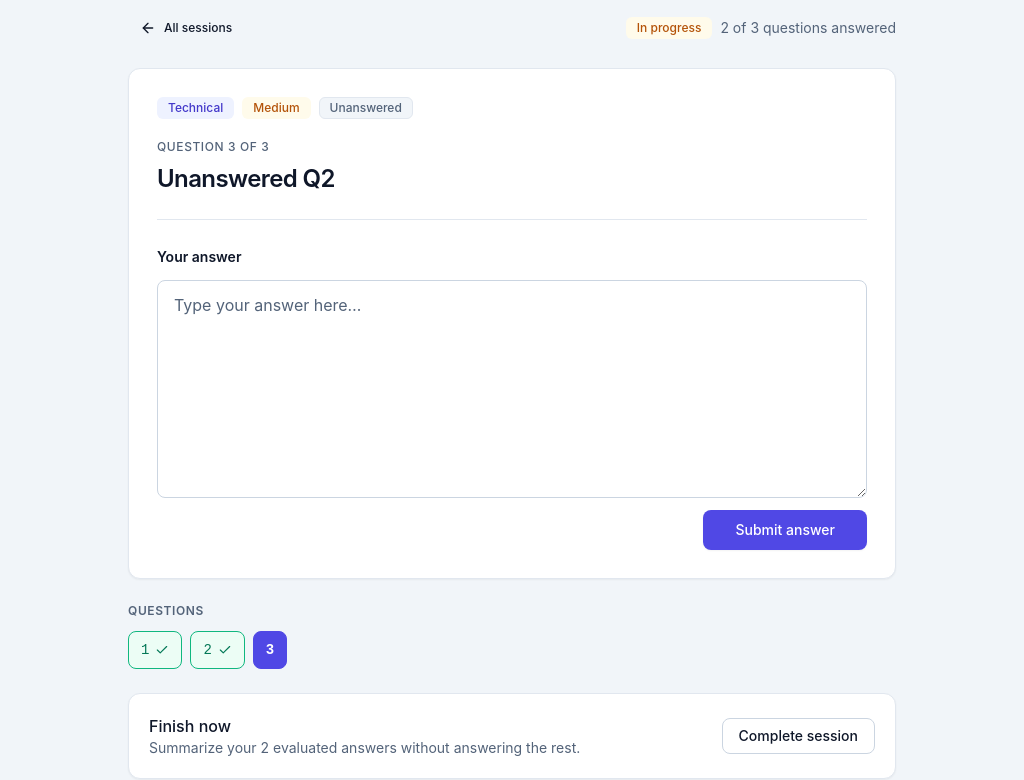
Test: PracticeSessionView Component › Test 5 — Progress/score distinction: progress is clearly labeled and not conflated with evaluation score
Expected: the text "Question 3 of 3" is shown, x1=157 y1=139 x2=269 y2=154
Expected: the heading "Unanswered Q2" is shown, x1=157 y1=164 x2=335 y2=193
# User navigates back to Question 1 to inspect previous answer
Click the button named "Question 1, score 75".
click(155, 650)  # box x1=128 y1=631 x2=182 y2=669
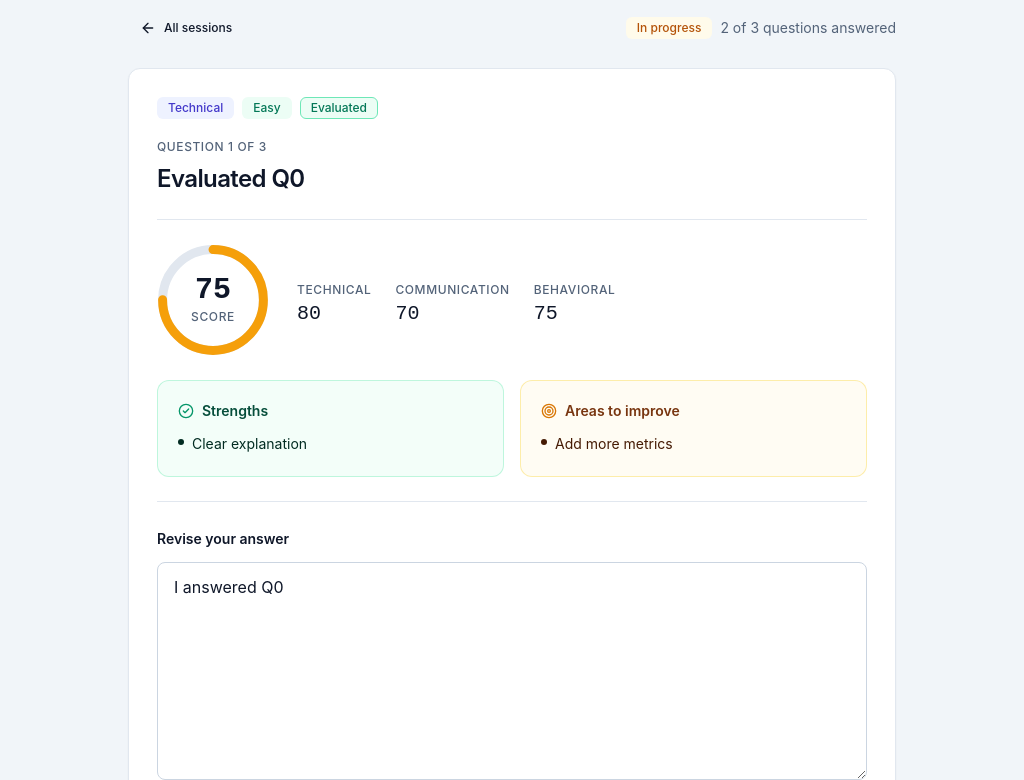
Expected: the text "Question 1 of 3" is shown, x1=157 y1=139 x2=267 y2=154
Expected: the heading "Evaluated Q0" is shown, x1=157 y1=164 x2=305 y2=193
Expected: the text "Evaluated" is shown, x1=300 y1=97 x2=378 y2=119
